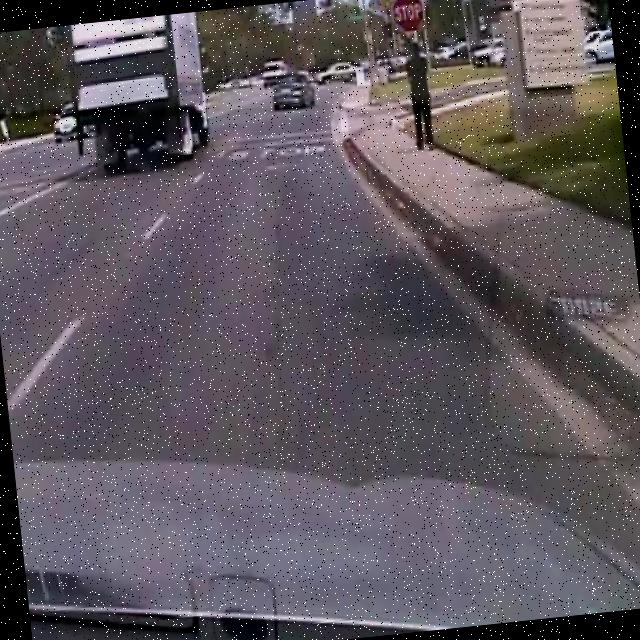Stop: (387, 0, 427, 34)
